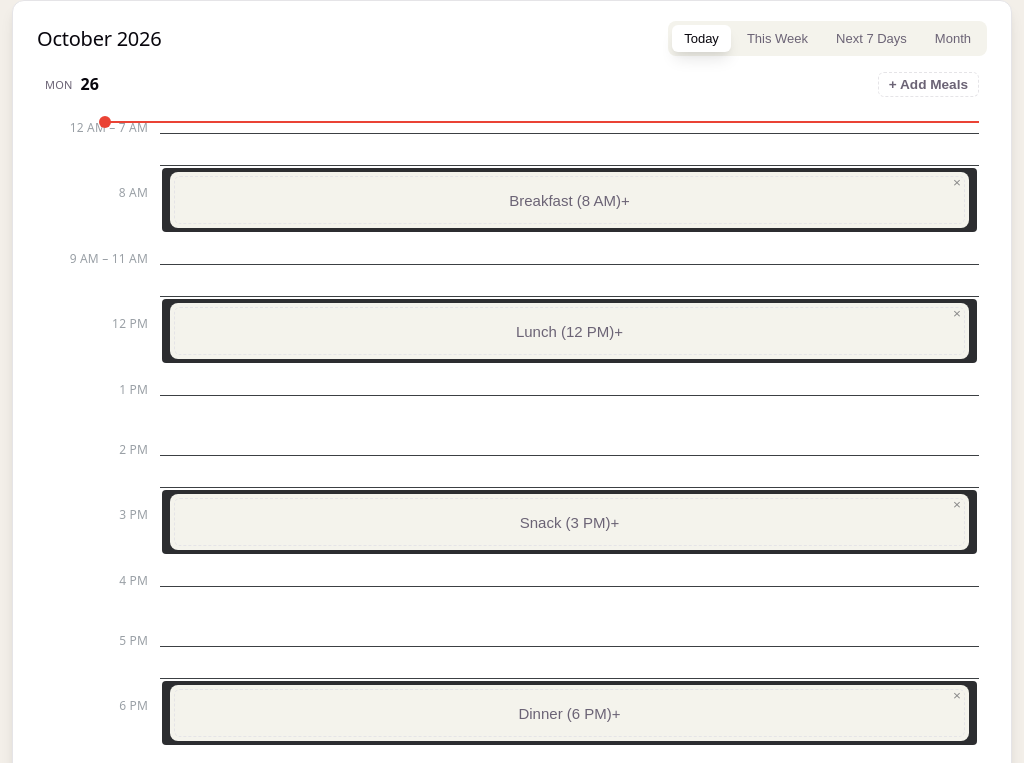
Test: CalendarPanel Recipe Popup Integration › shows a failed load and lets the user retry successfully
This screenshot has width=1024, height=763.
Click the button "Breakfast (8 AM)+": (570,200) [174,176,965,224]
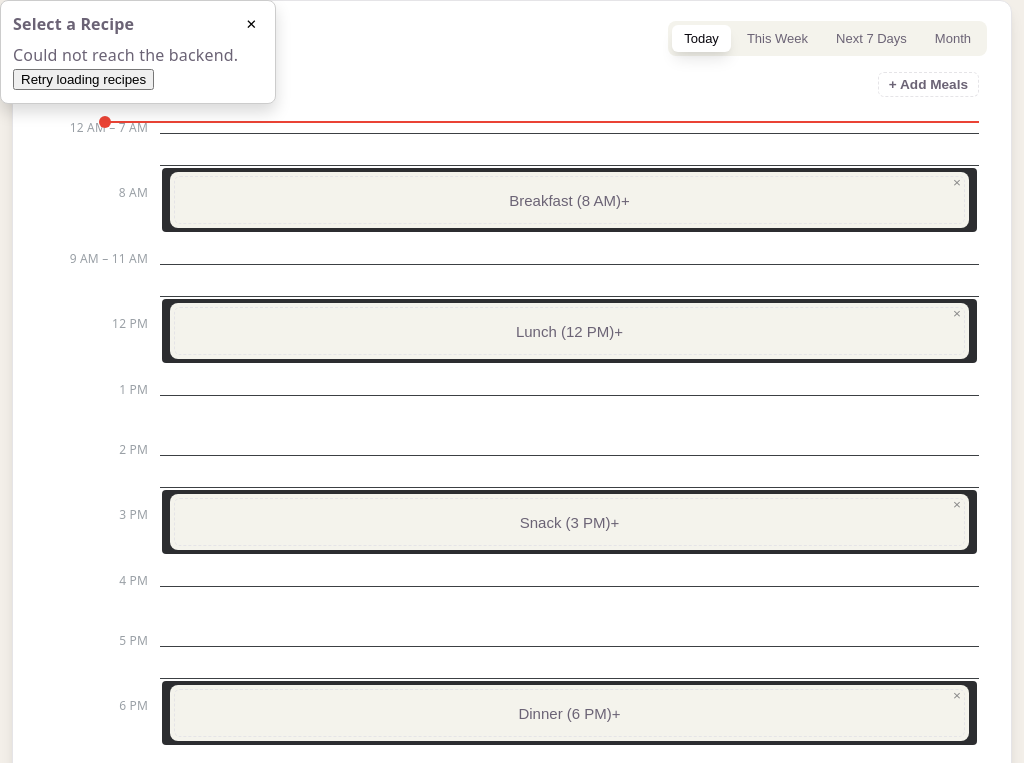
Expected: the message shows "Could not reach the backend.", [13,44,238,66]
Click the button "Retry loading recipes": (84,80) [13,69,154,90]
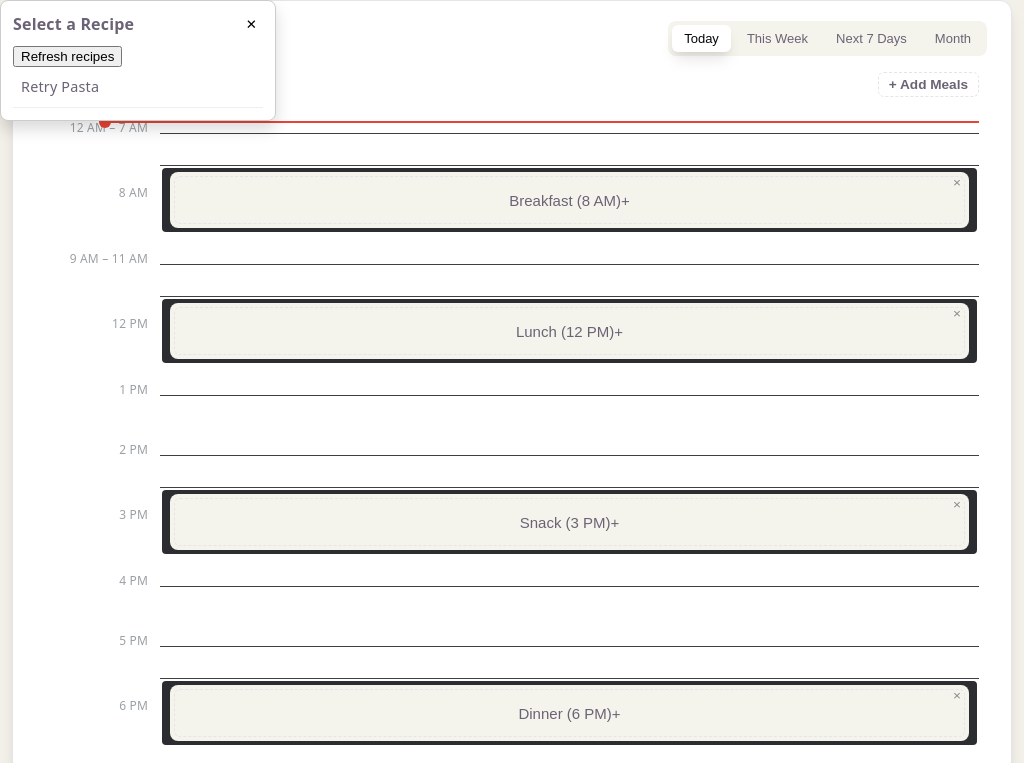
Expected: the list item "Retry Pasta" is shown, [13,67,263,108]
